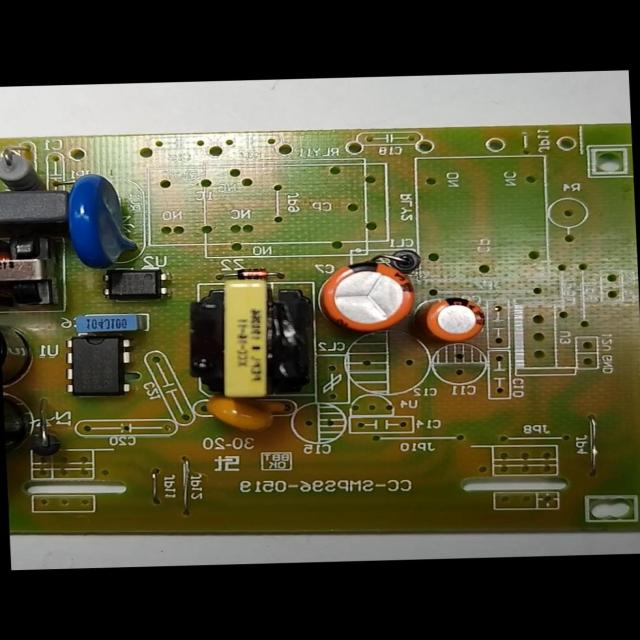Cap1: (320, 258, 416, 332)
Cap2: (419, 298, 488, 345)
Cap3: (0, 315, 38, 389)
Cap4: (3, 390, 39, 467)
MOSFET: (62, 335, 130, 398)
Mov: (66, 172, 143, 269)
Resistor: (0, 148, 42, 190)
Transformer: (184, 279, 321, 400), (0, 231, 55, 308)
